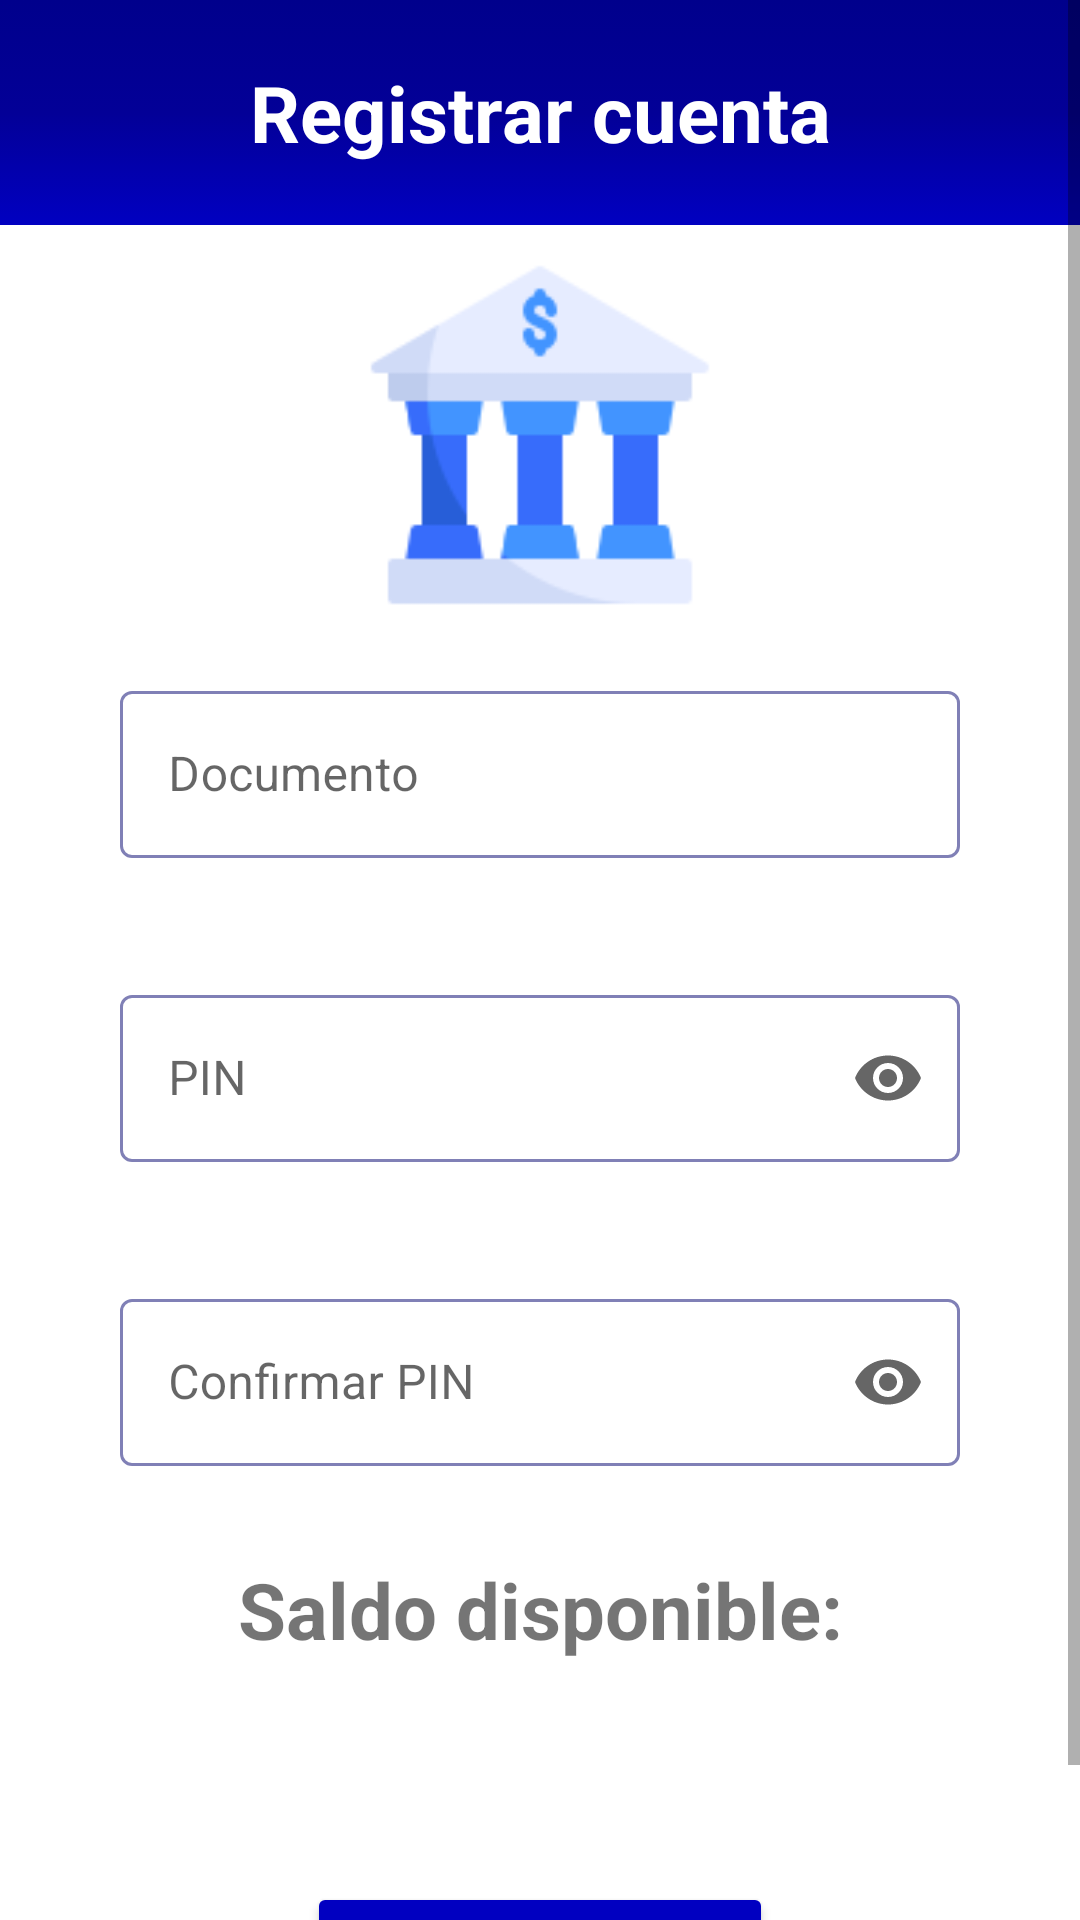

Icons on this 1080 × 1920 Android screen, each with the point to tap as [x,y]:
banco: [538,437]
